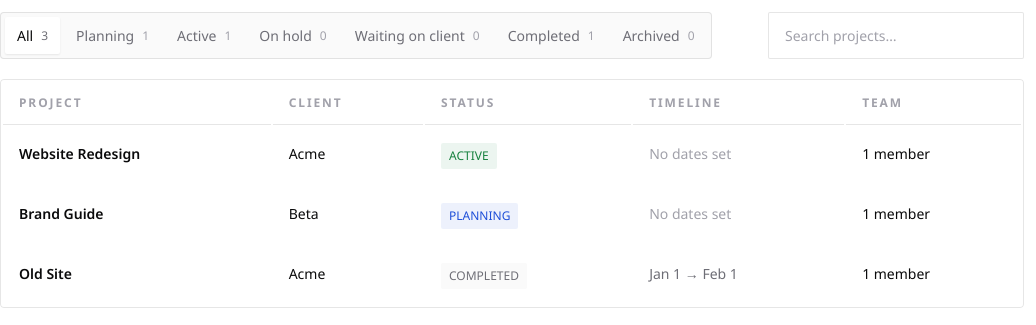
ProjectsTable › searches by project or client name
Type "acme" into the search field labelled "Search projects". click: (896, 36)
box: [768,12,1024,59]
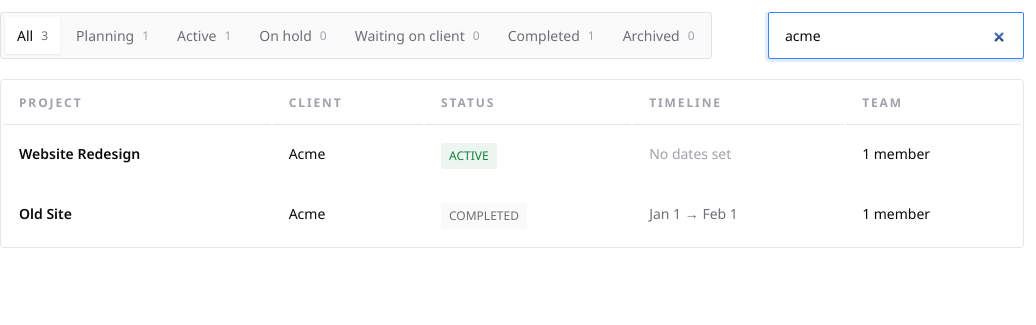
expect the text "Website Redesign" is shown: met, box [19,144,140,163]
expect the link "Brand Guide" is gone: met
